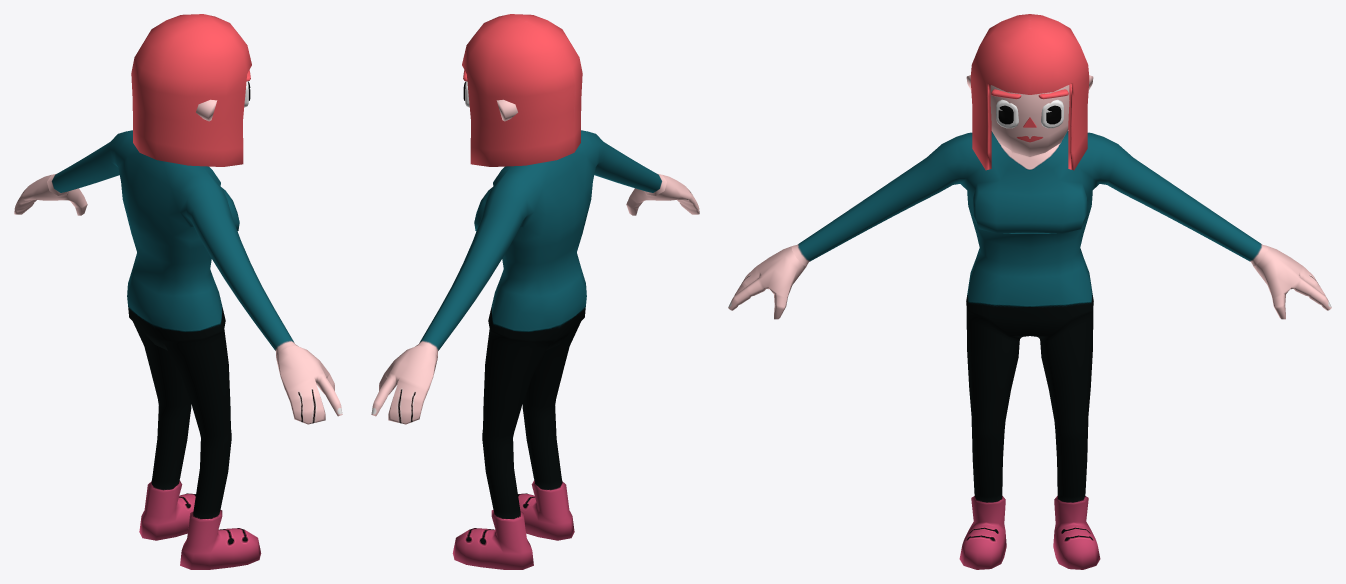
The model's file is scene_VbRvJHtxQq.glb.
The picture shows the model from 3 angles, left to right: view 1: azimuth 30°, elevation 25°; view 2: azimuth 150°, elevation 25°; view 3: azimuth 270°, elevation 25°; orthographic projection.
Visible parts, largest first — view 1: mesh_char_126; view 2: mesh_char_126; view 3: mesh_char_126.
Part boxes in pixels (x1,y1,x2,y2): mesh_char_126: (14,14,342,569); mesh_char_126: (371,14,699,569); mesh_char_126: (728,14,1331,569).
Bounding box in the file's own units: 0.9013 × 4.2 × 4.33.
1 material, 1 textured.
